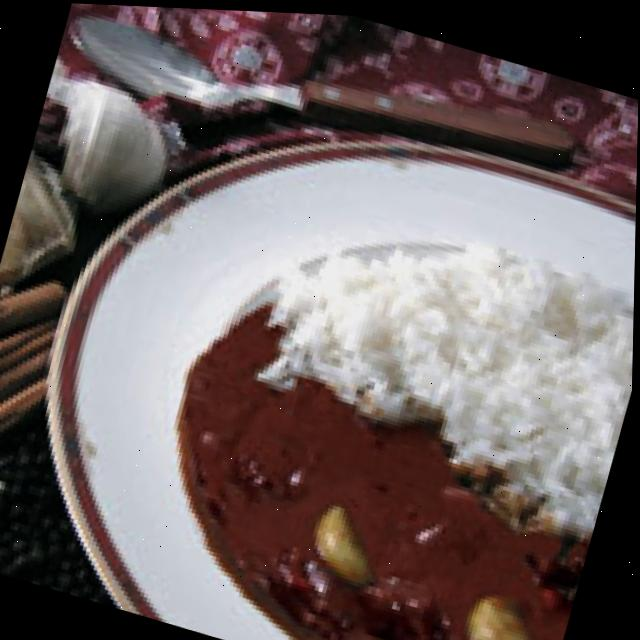牛肉菜式: (0, 37, 639, 640)
